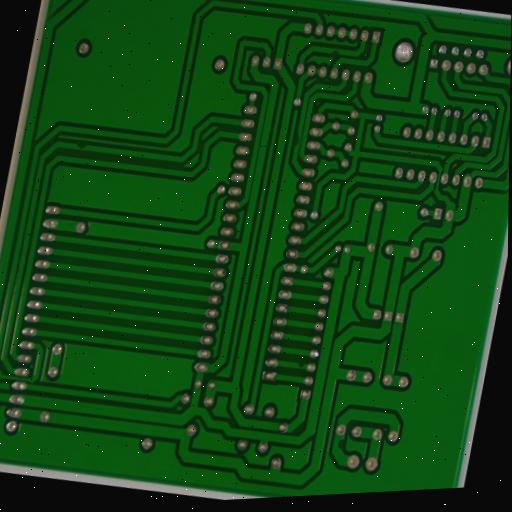mouse_bite: (71, 137, 88, 155), (333, 436, 347, 453), (327, 45, 343, 58), (292, 129, 302, 148), (295, 359, 306, 370)
